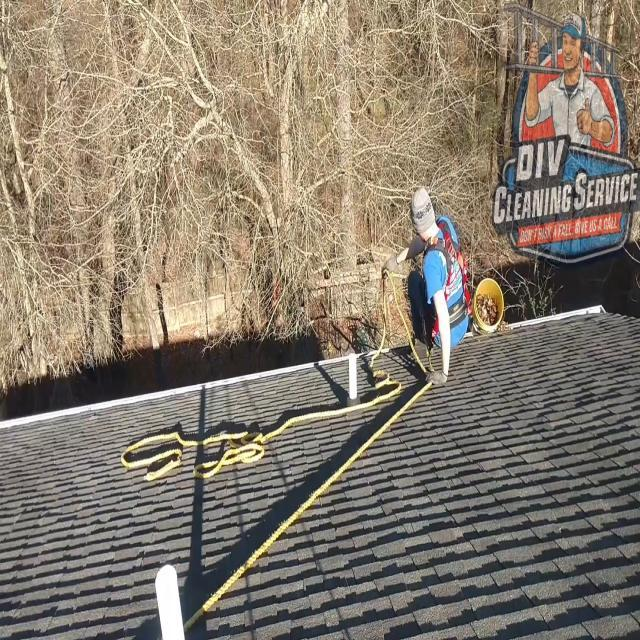belt: (422, 224, 475, 348)
